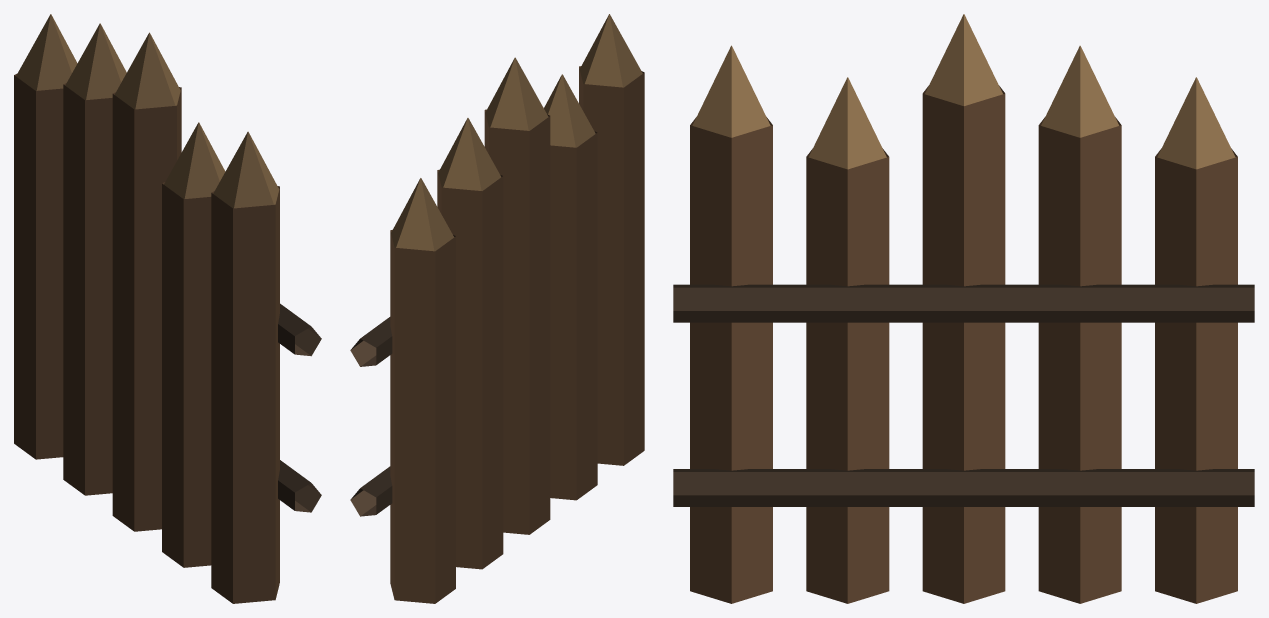
3 renders of one model, left to right at view 1: azimuth 30°, elevation 25°; view 2: azimuth 150°, elevation 25°; view 3: azimuth 270°, elevation 25°, orthographic. The views are drawn at different scales.
Visible parts, largest first — view 1: e25bcf2d44ad520a200e2f6f953012c95541978fb37c40fb94370fc1a86e; view 2: e25bcf2d44ad520a200e2f6f953012c95541978fb37c40fb94370fc1a86e; view 3: e25bcf2d44ad520a200e2f6f953012c95541978fb37c40fb94370fc1a86e.
Boxes of the visible parts, x1=… form: e25bcf2d44ad520a200e2f6f953012c95541978fb37c40fb94370fc1a86e: x1=14, y1=14, x2=321, y2=603; e25bcf2d44ad520a200e2f6f953012c95541978fb37c40fb94370fc1a86e: x1=350, y1=14, x2=644, y2=603; e25bcf2d44ad520a200e2f6f953012c95541978fb37c40fb94370fc1a86e: x1=673, y1=14, x2=1254, y2=603.
Bounding box in the file's own units: 0.3513 × 2.17 × 2.
1 material, 1 textured.
